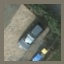car: (17, 21, 43, 51)
